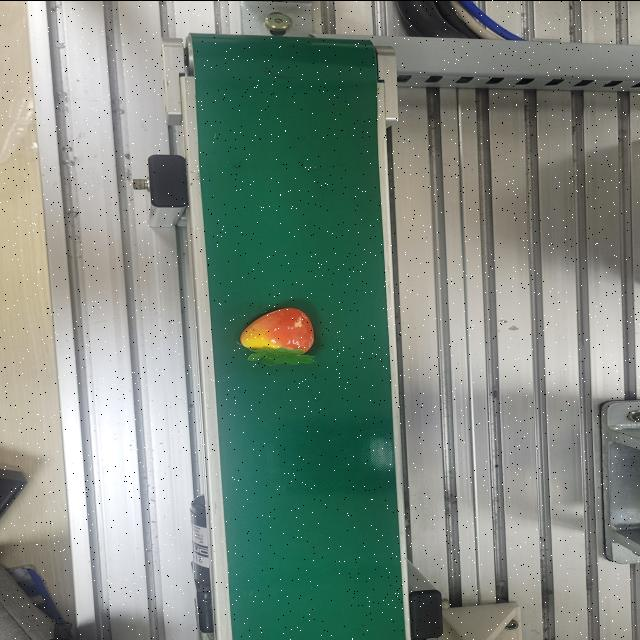Small Unripe Strawberry: (235, 306, 318, 366)
